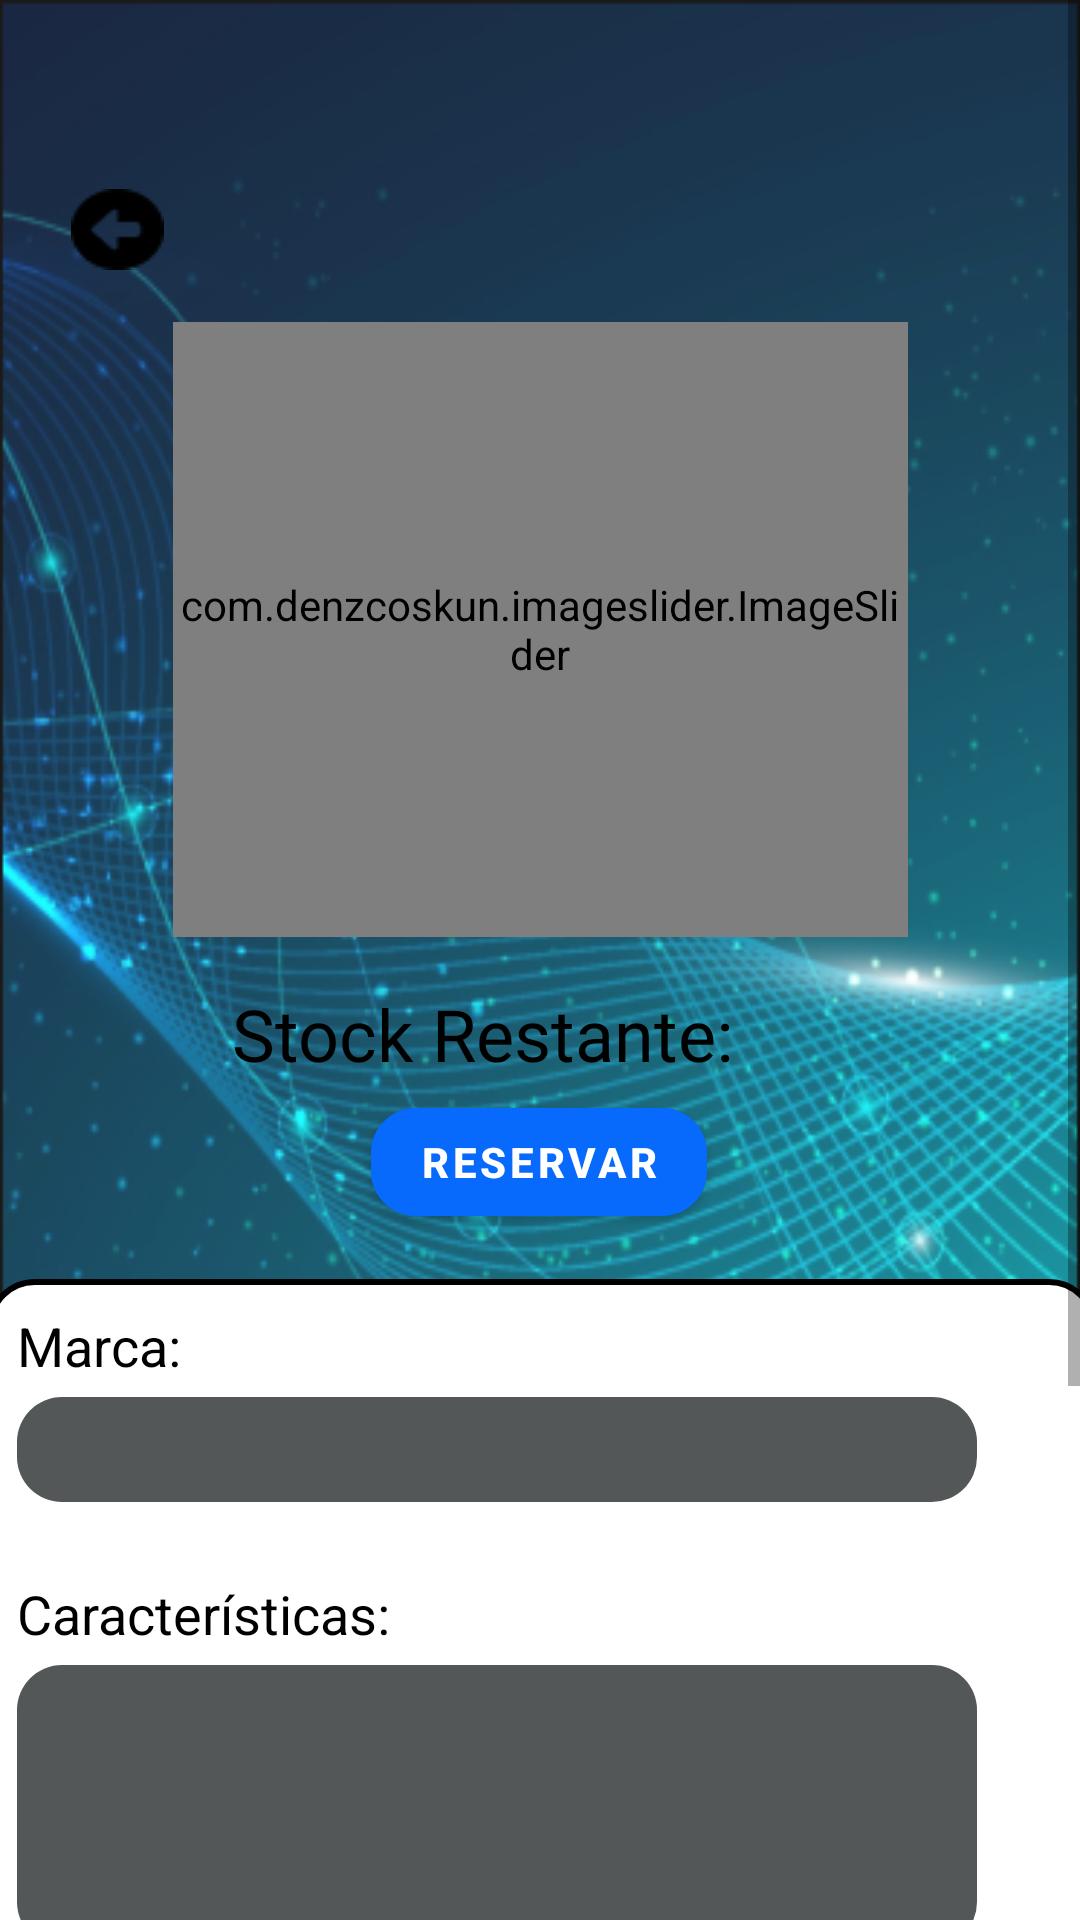

Screen size 1080w x 1920h. Icon name, then its center in pixels as (x=x, y=y):
back usuario: (x=112, y=237)
